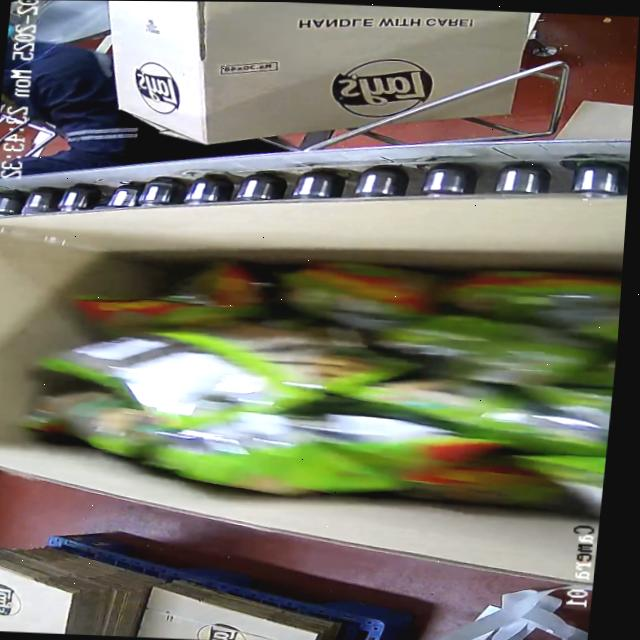YOGURT_HERB: (37, 236, 624, 525)
